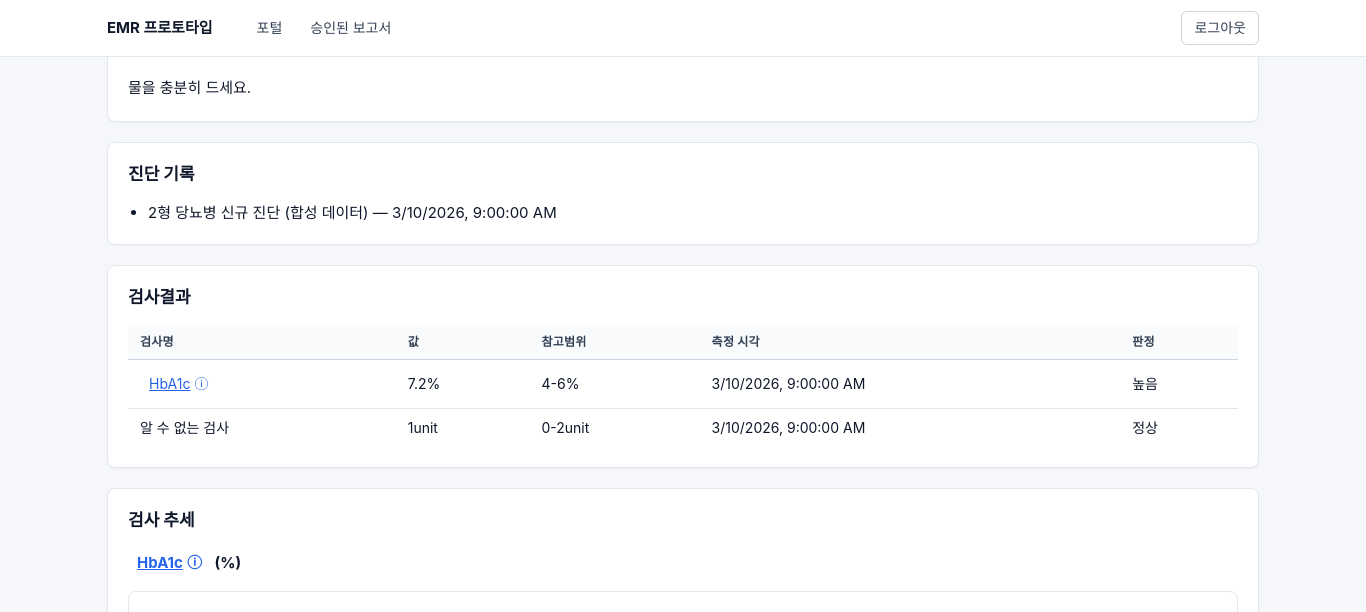
Test: PatientReportDetailPage › opens the medical term dialog when a registered term button is clicked
The image size is (1366, 612).
(page scrolled)
Click the button "HbA1c ⓘ" below "검사명": click(179, 384) [140,368,217,400]
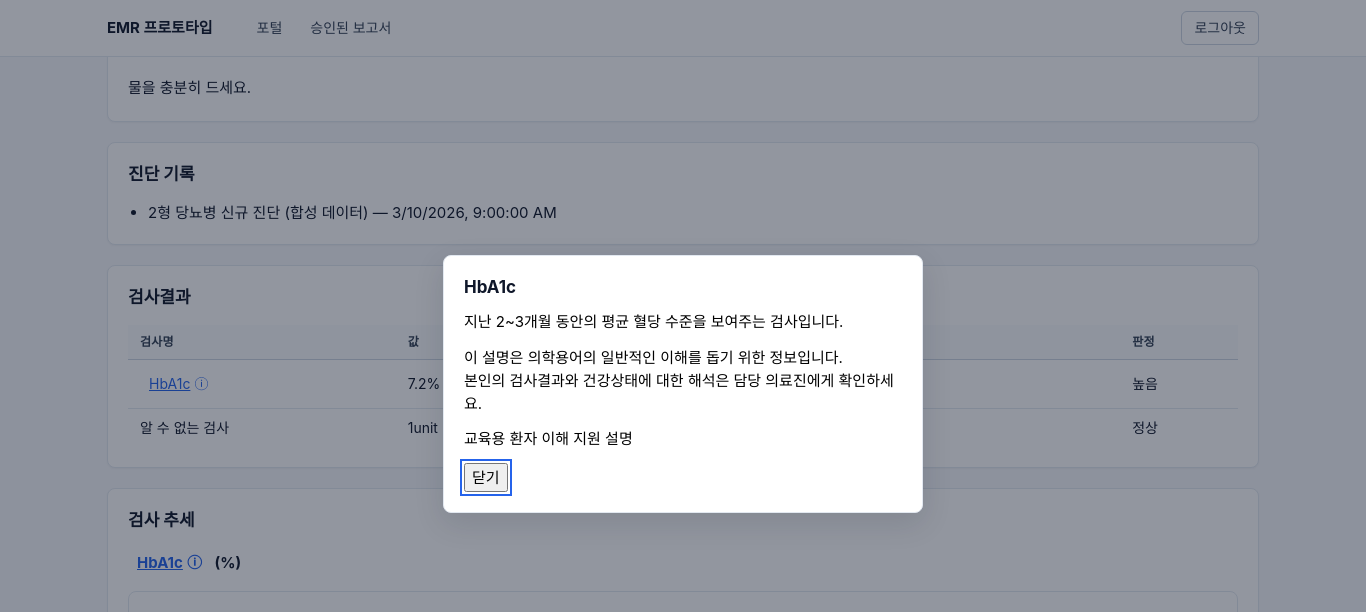
Expected: the dialog is shown, [443,255,923,513]
Expected: the text "지난 2~3개월 동안의 평균 혈당 수준을 보여주는 검사입니다." is shown, [464,310,902,334]
